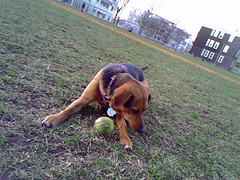tennis ball: (94, 116, 116, 137)
